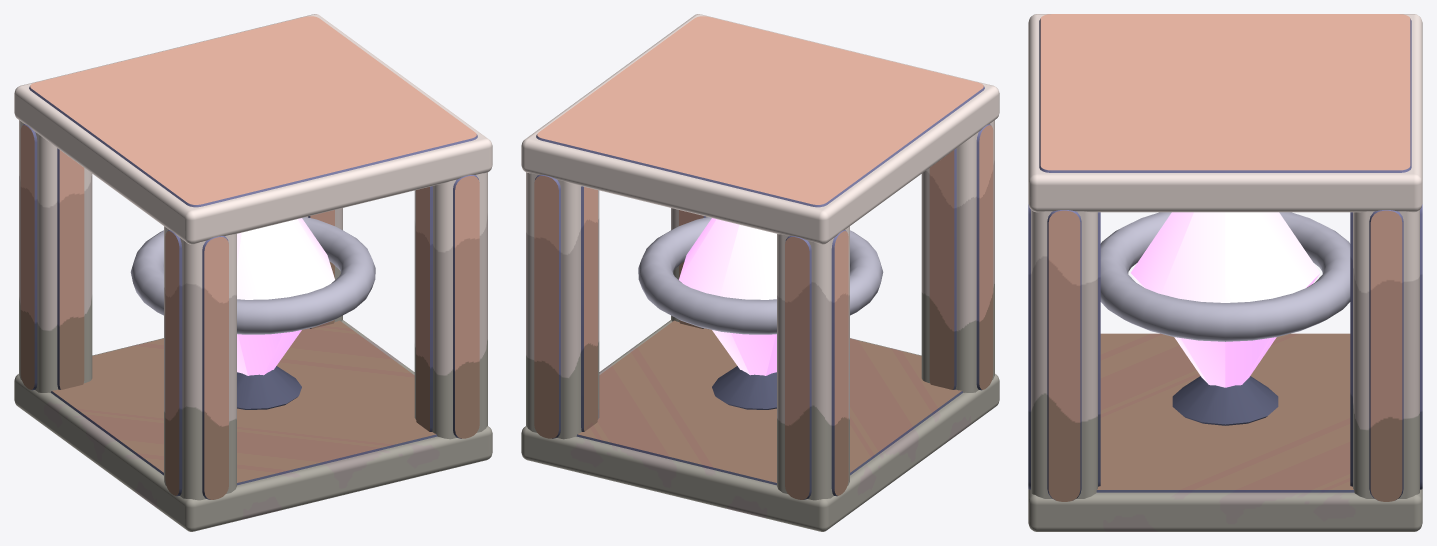
The model's file is R4X_CoreBooster.glb.
3 renders of one model, left to right at view 1: azimuth 30°, elevation 25°; view 2: azimuth 150°, elevation 25°; view 3: azimuth 270°, elevation 25°, orthographic. The views are drawn at different scales.
Parts seen in each view (by area): view 1: R4X_CoreBooster_Body; view 2: R4X_CoreBooster_Body; view 3: R4X_CoreBooster_Body.
Boxes of the visible parts, x1,y1,x2,y2 form: R4X_CoreBooster_Body: (14, 14, 492, 531); R4X_CoreBooster_Body: (521, 14, 999, 531); R4X_CoreBooster_Body: (1028, 14, 1422, 531).
Bounding box in the file's own units: 0.5144 × 0.52 × 0.5144.
Materials: 5 (4 with a texture image).
